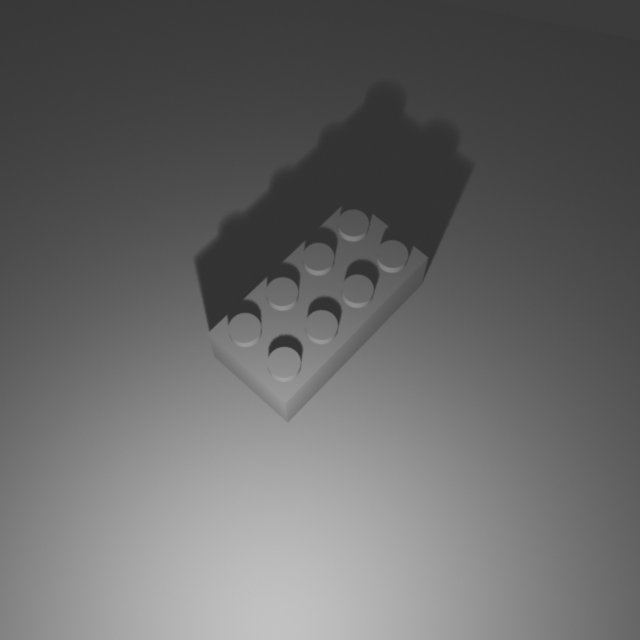lego_2x4: (206, 192, 430, 423)
